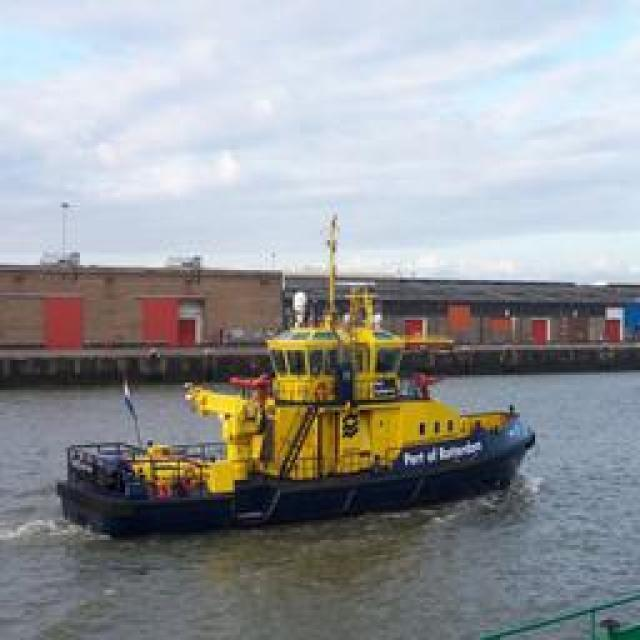ship2: (57, 214, 537, 540)
